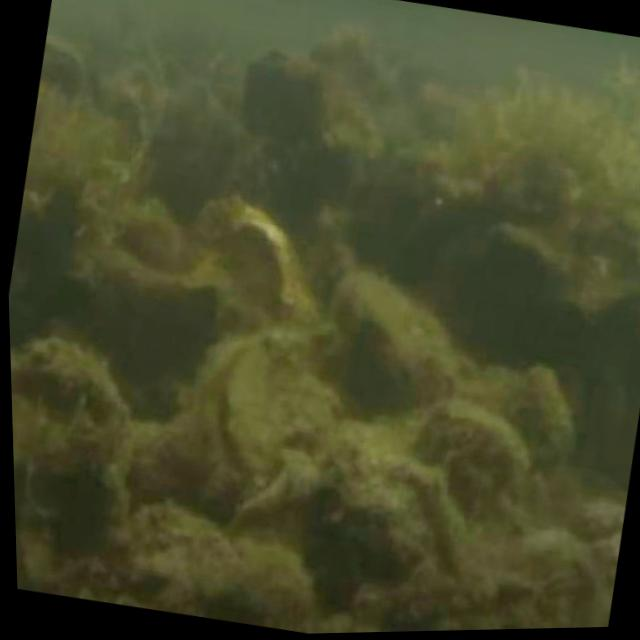Oyster-Closed: (189, 194, 310, 314), (234, 454, 336, 534), (554, 478, 625, 547)
Oyster-Indeterminate: (312, 421, 461, 574), (106, 503, 302, 615), (74, 249, 221, 378), (329, 265, 456, 406), (106, 421, 240, 526), (477, 531, 619, 630), (126, 92, 246, 207), (10, 336, 130, 445), (410, 399, 528, 491), (480, 214, 574, 303), (568, 286, 640, 341)
Oyster-Open: (192, 338, 337, 484)
